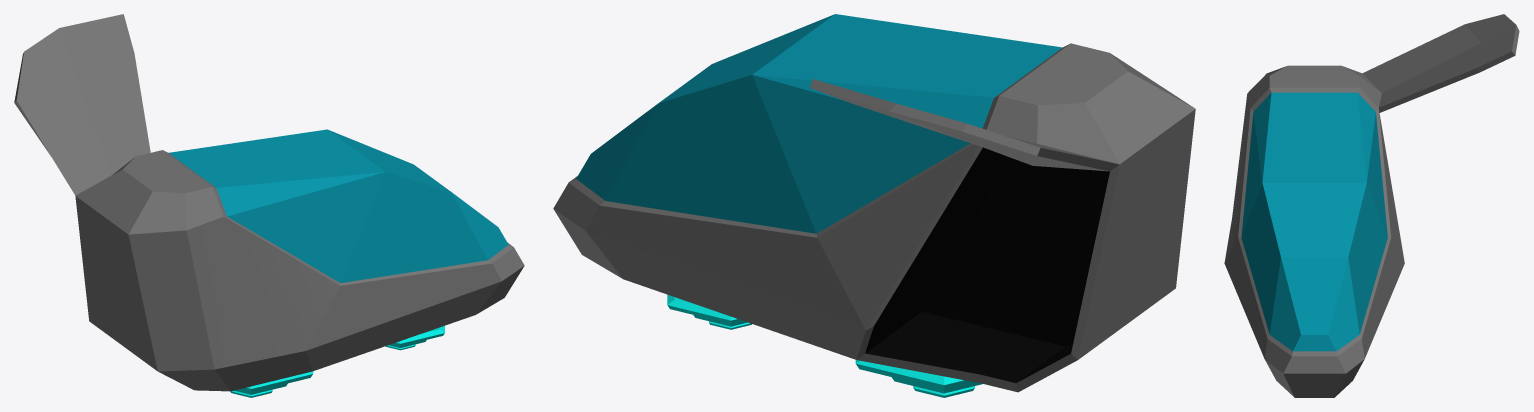
Rendered from ship.fbx.
3 renders of one model, left to right at view 1: azimuth 30°, elevation 25°; view 2: azimuth 150°, elevation 25°; view 3: azimuth 270°, elevation 25°, orthographic. The views are drawn at different scales.
Parts seen in each view (by area): view 1: pTorus11; view 2: pTorus11; view 3: pTorus11.
Part boxes in pixels (<box>): pTorus11: <box>14,14,524,397</box>; pTorus11: <box>553,14,1195,397</box>; pTorus11: <box>1224,14,1519,397</box>.
Bounding box in the file's own units: 332 × 233 × 232.
